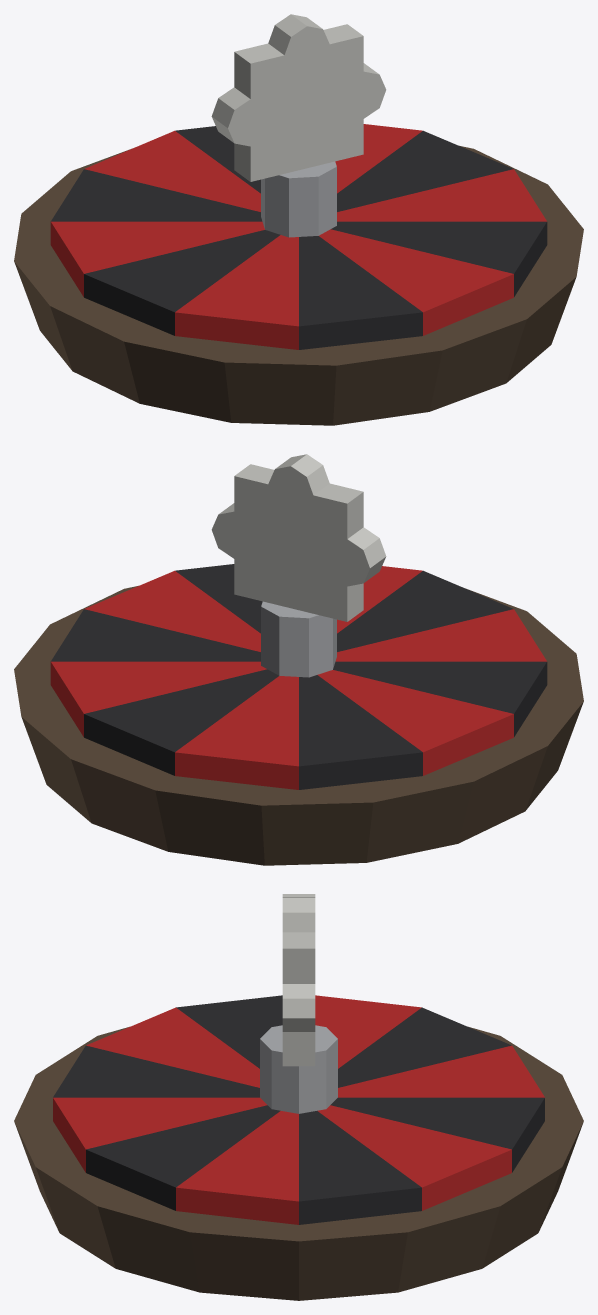
File: puzzle-roulette.glb
3 views of the same model, one above another, from view 1: azimuth 30°, elevation 25°; view 2: azimuth 150°, elevation 25°; view 3: azimuth 270°, elevation 25° (orthographic).
Visible parts, largest first — view 1: roulette_wheel, roulette_stand, roulette_piece; view 2: roulette_wheel, roulette_stand, roulette_piece; view 3: roulette_wheel, roulette_stand, roulette_piece.
Boxes of the visible parts, bbox=[...] form: roulette_wheel: bbox=[50, 124, 547, 349]; roulette_stand: bbox=[14, 145, 583, 425]; roulette_piece: bbox=[211, 14, 386, 181]; roulette_wheel: bbox=[50, 564, 547, 789]; roulette_stand: bbox=[14, 585, 583, 865]; roulette_piece: bbox=[211, 454, 386, 621]; roulette_wheel: bbox=[53, 995, 544, 1224]; roulette_stand: bbox=[14, 1026, 583, 1300]; roulette_piece: bbox=[282, 894, 315, 1066].
Size of the model in its own units: 0.44 by 0.25 by 0.44.
